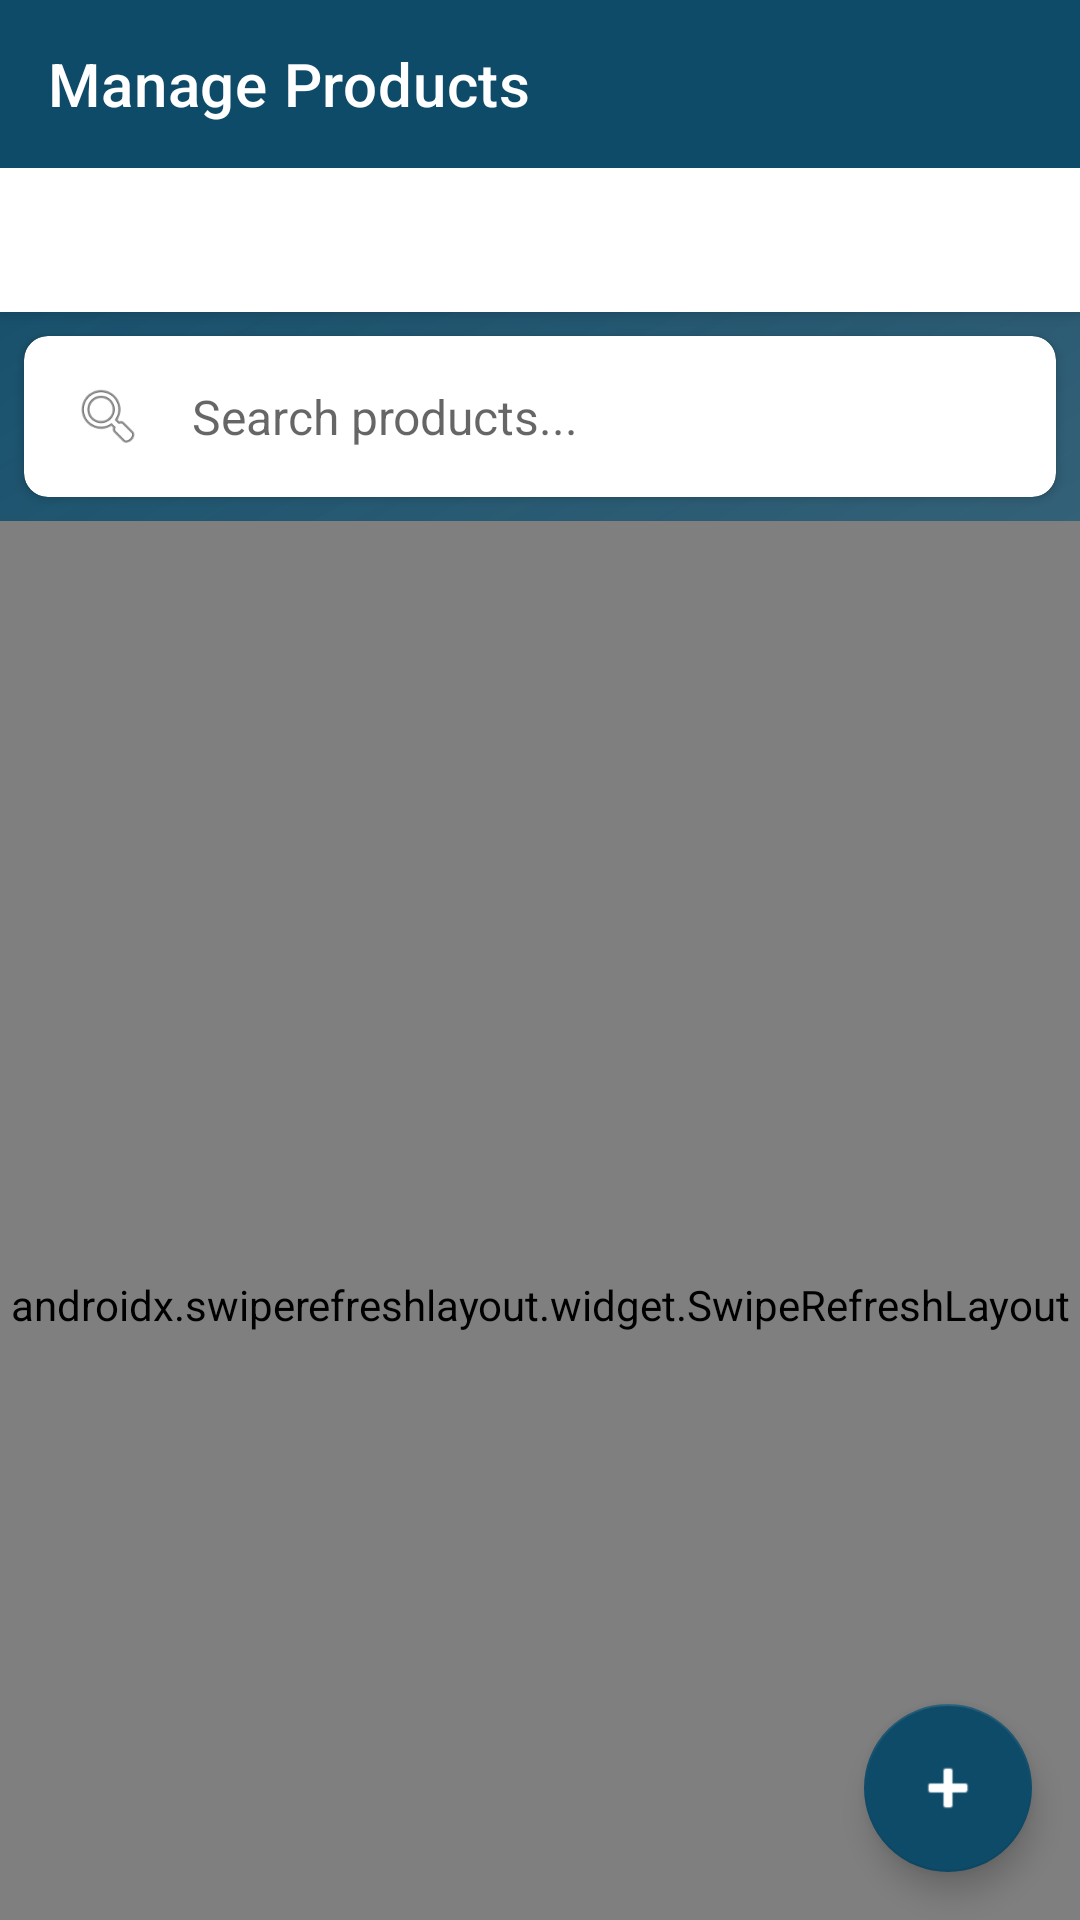

Screen size 1080w x 1920h. Icon name, then its box in pixels as [x1, y1, x2, y2]:
Add Product: [864, 1704, 1032, 1872]
